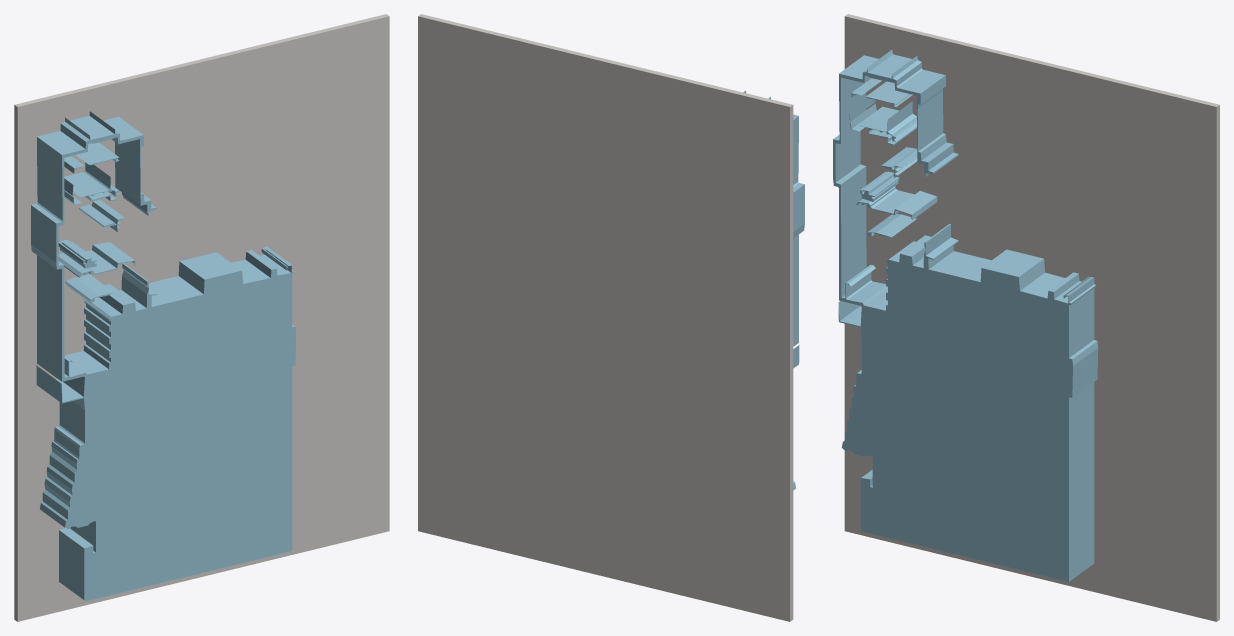
3 renders of one model, left to right at view 1: azimuth 30°, elevation 25°; view 2: azimuth 150°, elevation 25°; view 3: azimuth 330°, elevation 25°, orthographic.
Parts seen in each view (by area): view 1: world; view 2: world; view 3: world.
Part boxes in pixels (x1,y1,x2,y2): world: (14,14,389,621); world: (418,14,804,621); world: (833,14,1219,621).
Size of the model in its own units: 10.23 by 13.53 by 1.35.
